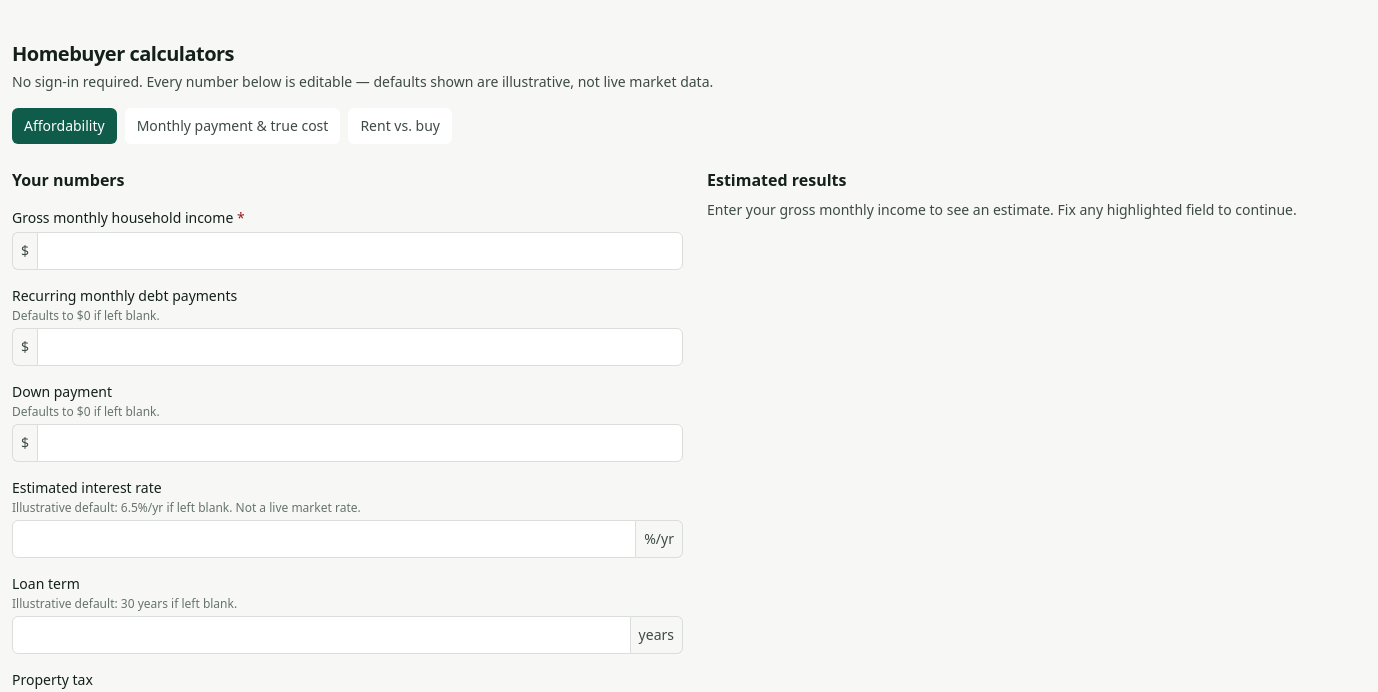
CalculatorsSection accessibility › never claims a verdict on rent vs. buy: both breakdowns are shown side by side
Step 1. Click the tab "Rent vs. buy" → [400, 126], box [348,108,452,144]
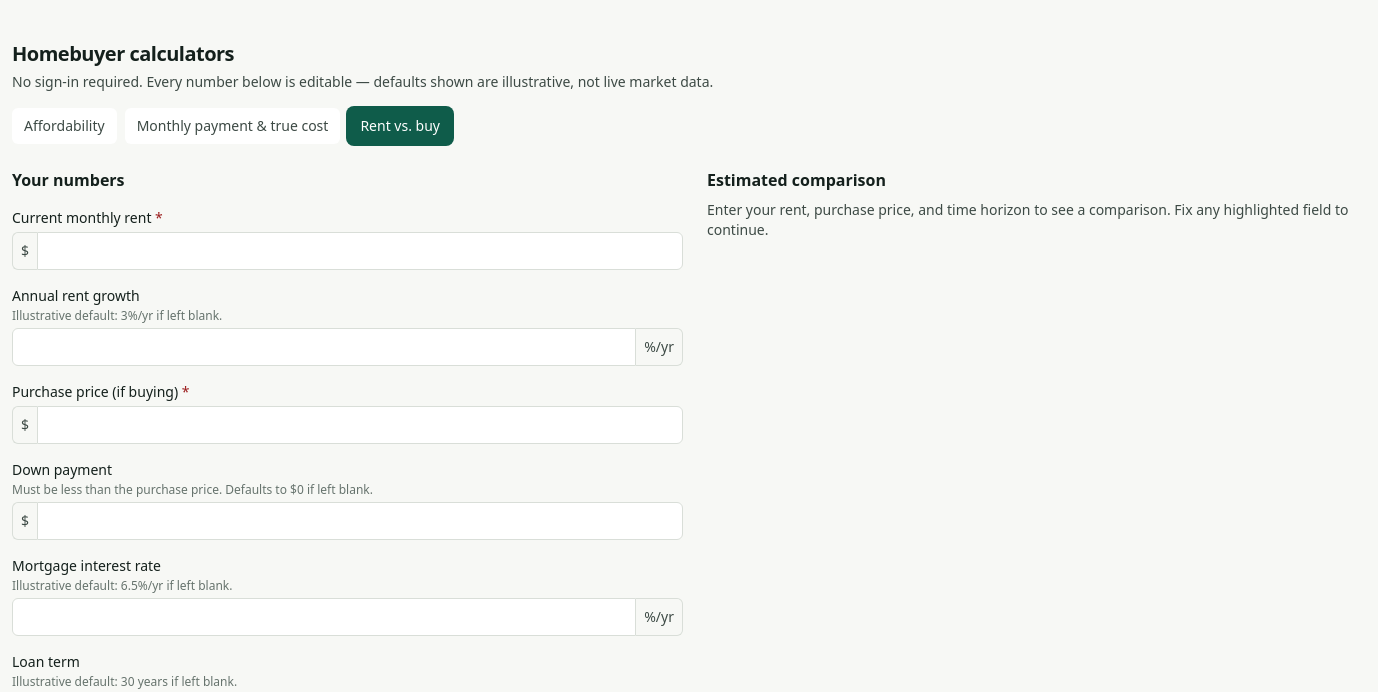
Step 2. Type "1800" into the number field labelled "Current monthly rent *" → [360, 251], box [37,232,683,270]
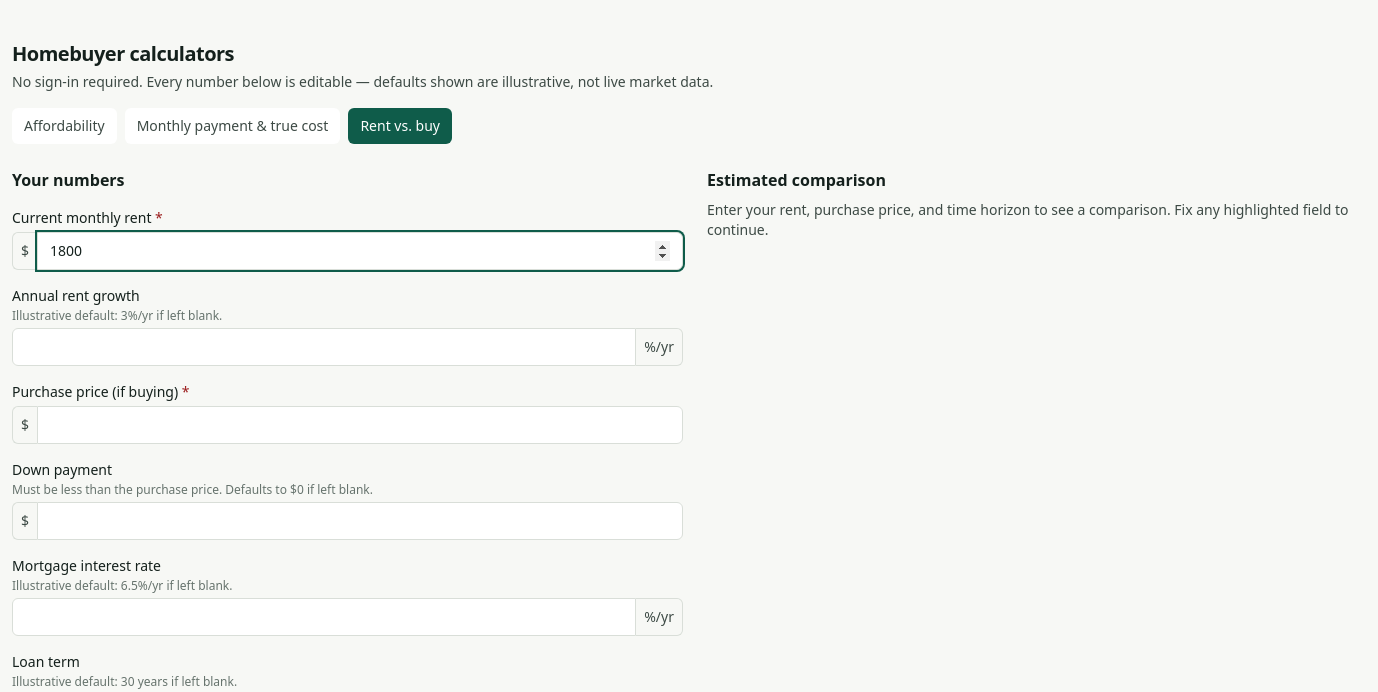
Step 3. Type "300000" into the number field labelled "Purchase price (if buying) *" → [360, 425], box [37,406,683,444]
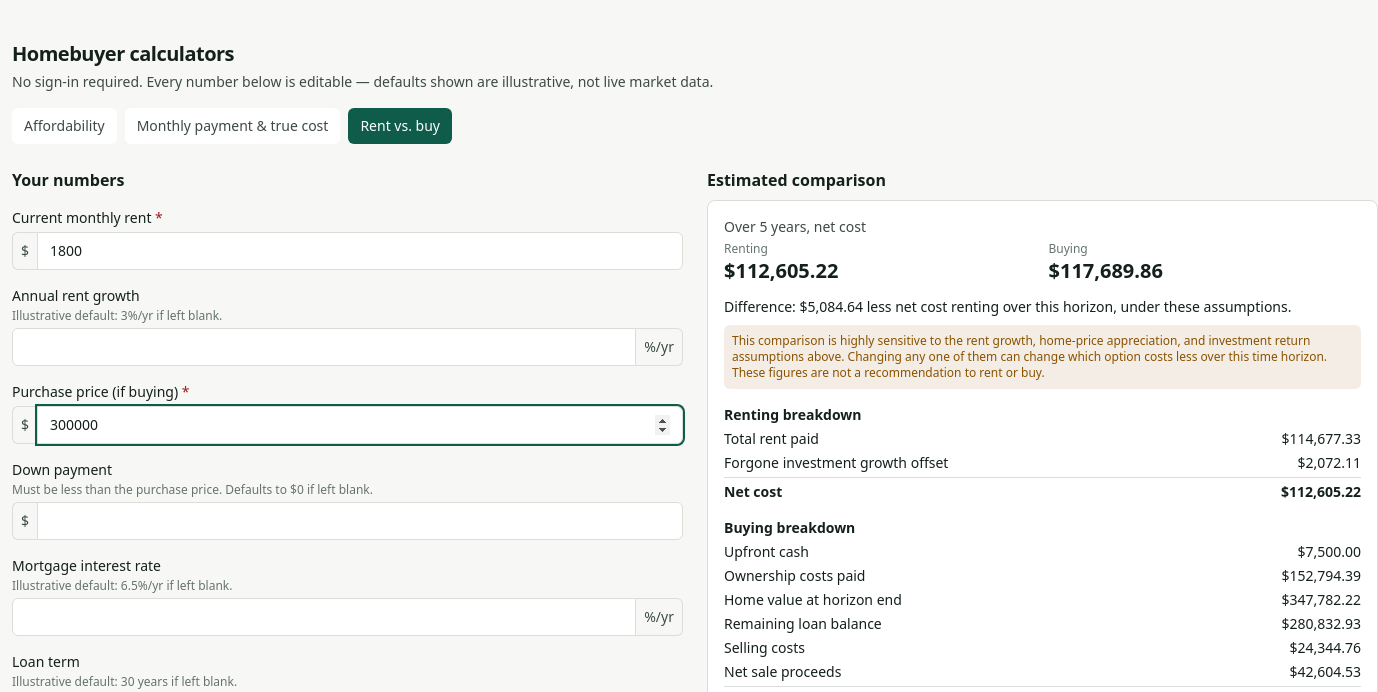
Expected: the heading "Renting breakdown" is shown, [724,405,862,424]
Expected: the heading "Buying breakdown" is shown, [724,518,855,537]
Expected: the text "highly sensitive" is shown, [732,332,1327,381]
